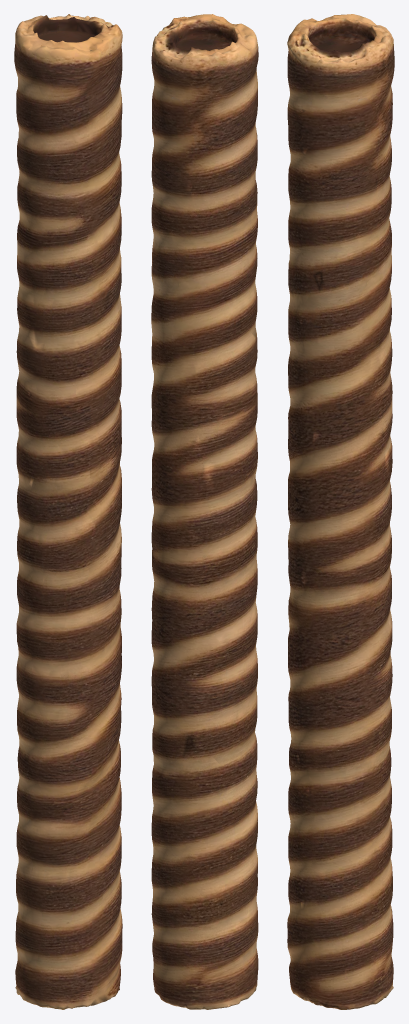
Rendered from bk-decor-wafer-roll.glb.
The picture shows the model from 3 angles, left to right: view 1: azimuth 90°, elevation 25°; view 2: azimuth 210°, elevation 25°; view 3: azimuth 270°, elevation 25°; orthographic projection.
Parts seen in each view (by area): view 1: node_0; view 2: node_0; view 3: node_0.
Part boxes in pixels (x1,y1,x2,y2): node_0: [14, 14, 122, 1009]; node_0: [151, 14, 258, 1009]; node_0: [287, 14, 394, 1009].
Size of the model in its own units: 0.1214 by 1.19 by 0.1213.
1 material, 1 textured.
